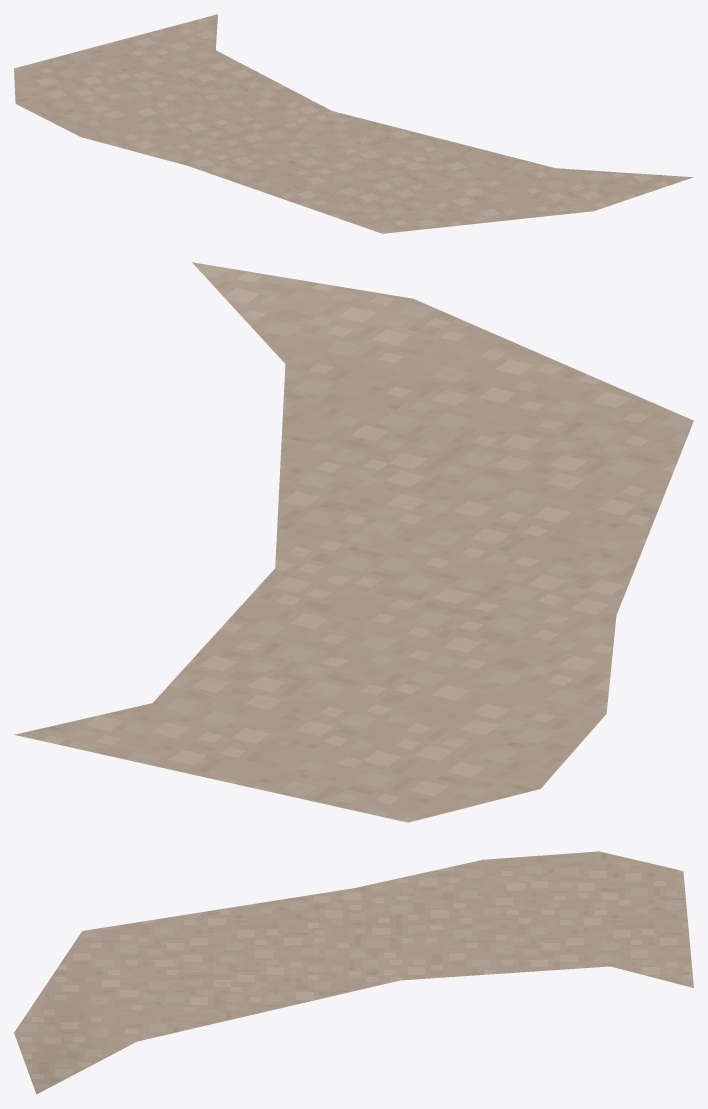
The model's file is kd_stage_135ebf_2_54.glb.
3 renders of one model, top to bottom at view 1: azimuth 30°, elevation 25°; view 2: azimuth 150°, elevation 25°; view 3: azimuth 270°, elevation 25°, orthographic. The views are drawn at different scales.
Visible parts, largest first — view 1: kd_stage_135ebf_2_54; view 2: kd_stage_135ebf_2_54; view 3: kd_stage_135ebf_2_54.
Boxes of the visible parts, box(x1,y1,x2,y2) form: kd_stage_135ebf_2_54: box(14, 14, 692, 233); kd_stage_135ebf_2_54: box(14, 262, 693, 822); kd_stage_135ebf_2_54: box(14, 851, 693, 1094).
Bounding box in the file's own units: 2.92 × 0 × 3.45.
Materials: 1 (1 with a texture image).
